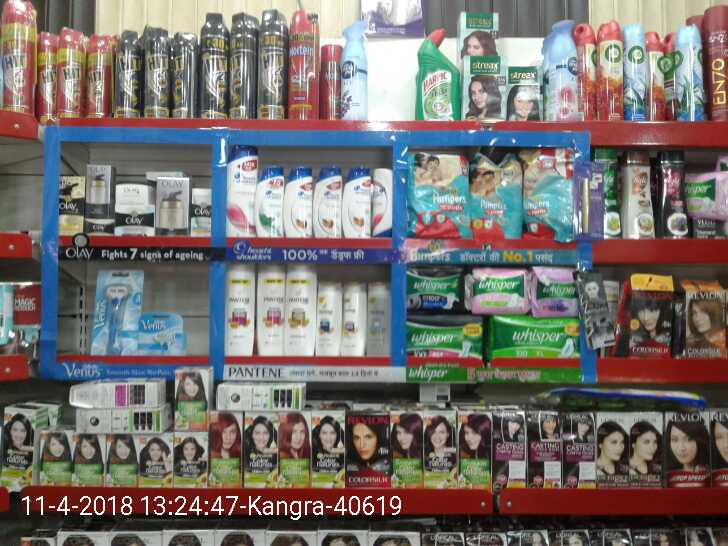venus: (94, 266, 134, 350), (134, 312, 188, 350)
